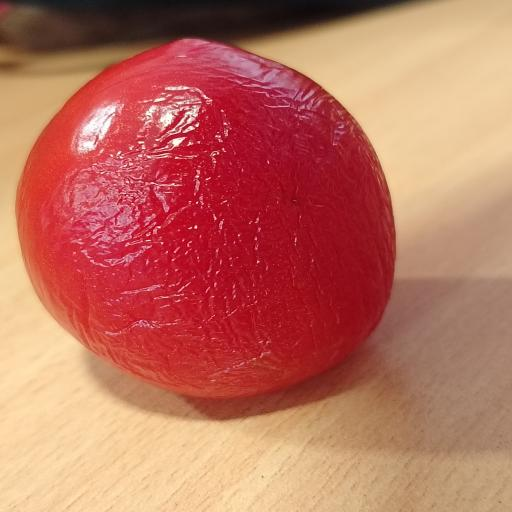spoiled: (16, 39, 395, 397)
